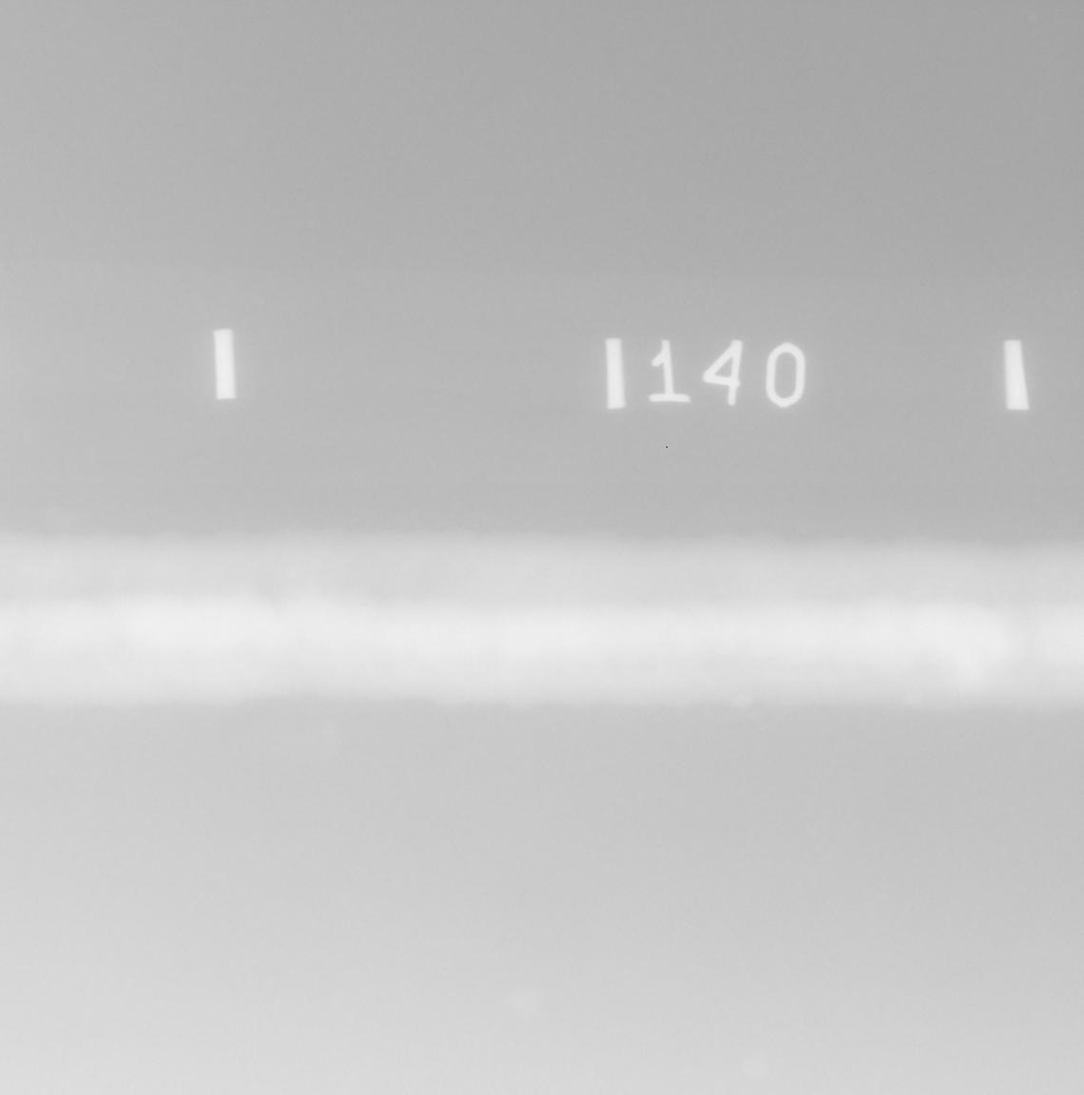Pore/Porosity: (1064, 590, 1069, 595), (362, 603, 367, 607)
